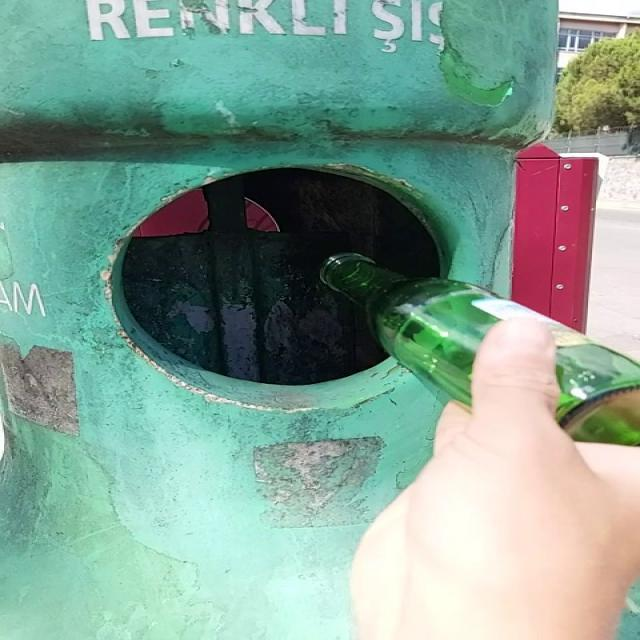glass: (321, 253, 640, 446)
